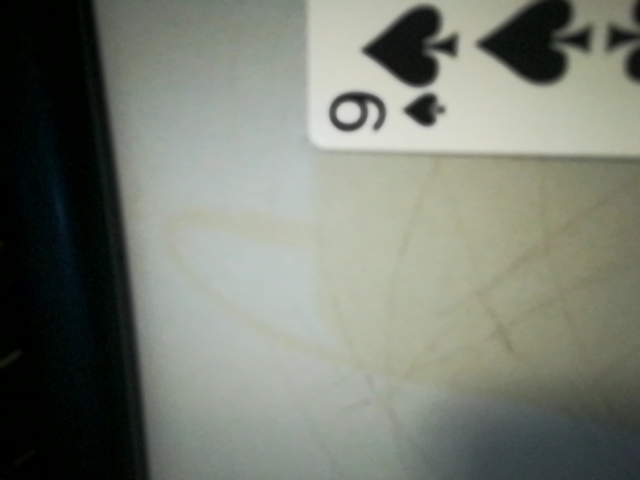ht 9: (308, 71, 460, 152)
